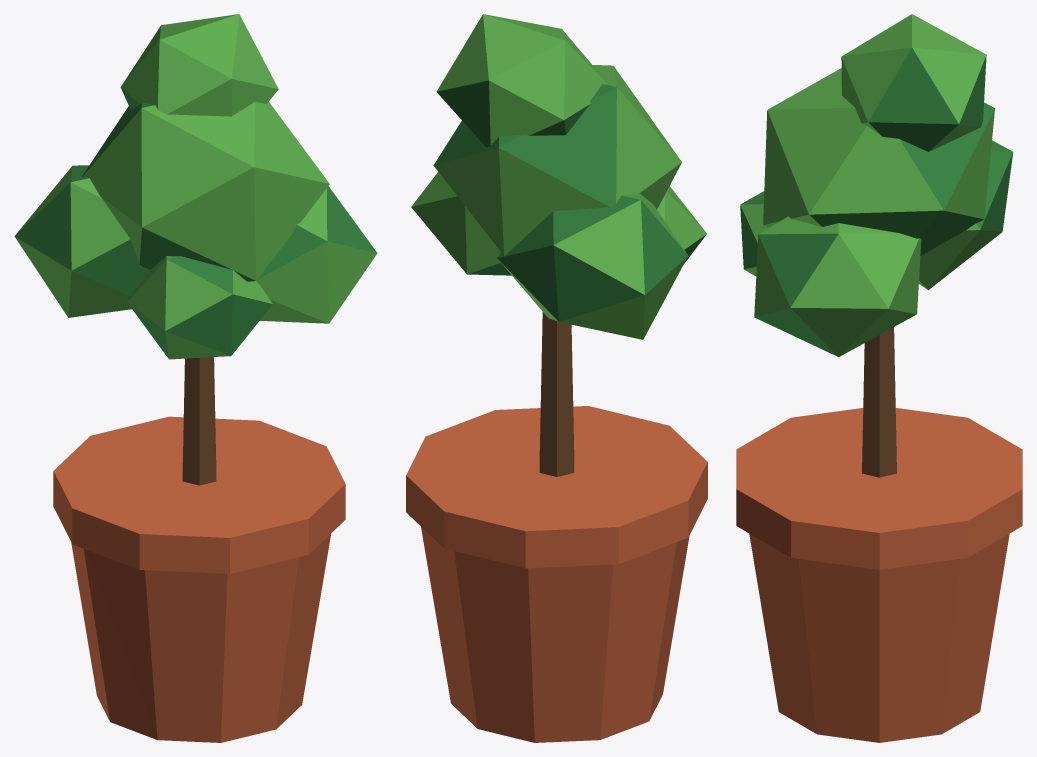
File: PottedPlant.obj
3 views of the same model, side by side, from view 1: azimuth 30°, elevation 25°; view 2: azimuth 150°, elevation 25°; view 3: azimuth 270°, elevation 25° (orthographic). The views are drawn at different scales.
Parts seen in each view (by area): view 1: PottedPlant; view 2: PottedPlant; view 3: PottedPlant.
Part boxes in pixels (x1=…): PottedPlant: x1=14, y1=14, x2=377, y2=742; PottedPlant: x1=406, y1=14, x2=707, y2=742; PottedPlant: x1=736, y1=14, x2=1022, y2=742.
Size of the model in its own units: 0.3957 by 0.919 by 0.3518.
